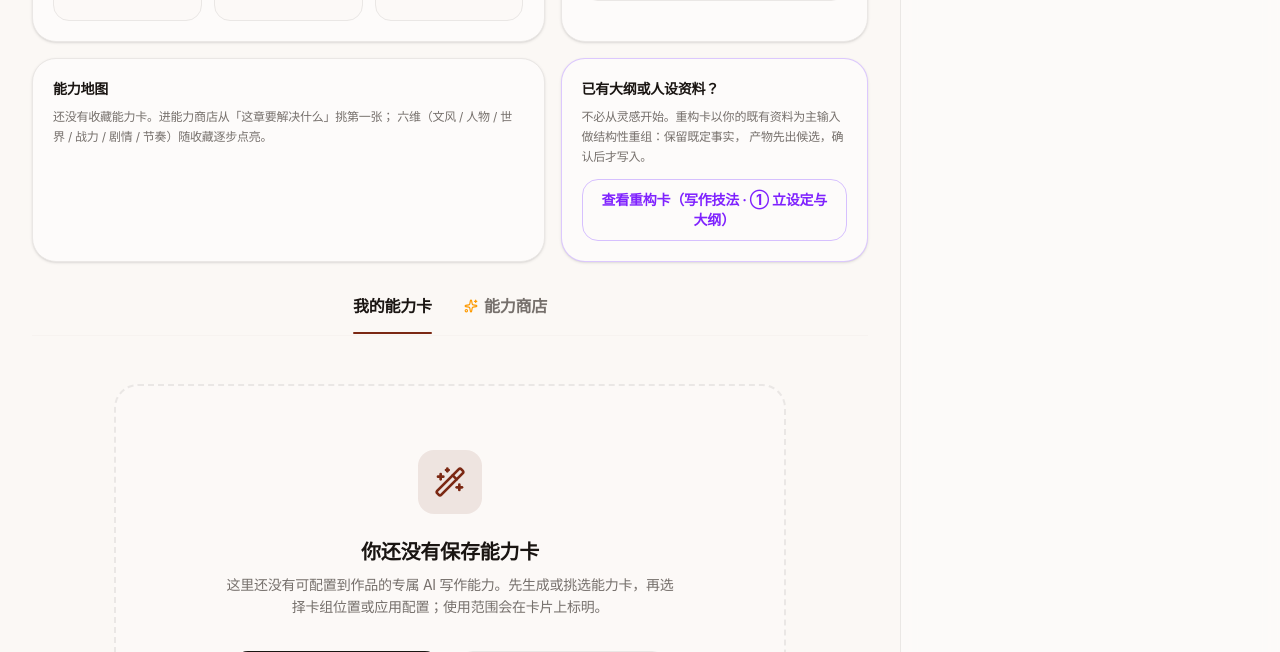
it: Plan 158 capability center › shows a single flow directory instead of duplicating flow packages
The image size is (1280, 652).
(page scrolled)
Step 1. Click the button "能力商店" → [505, 314], box [464,294,547,334]
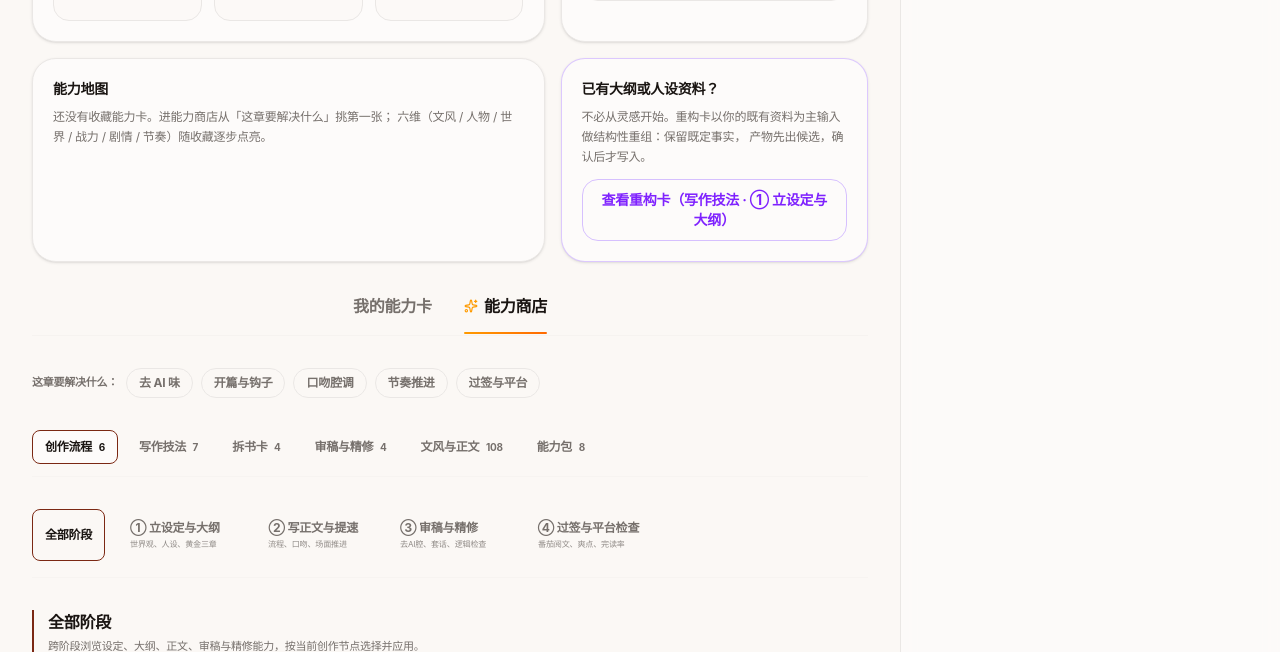
Step 2. Click the tab "能力包 8" → [561, 446], box [524,430,598,464]
(page scrolled)
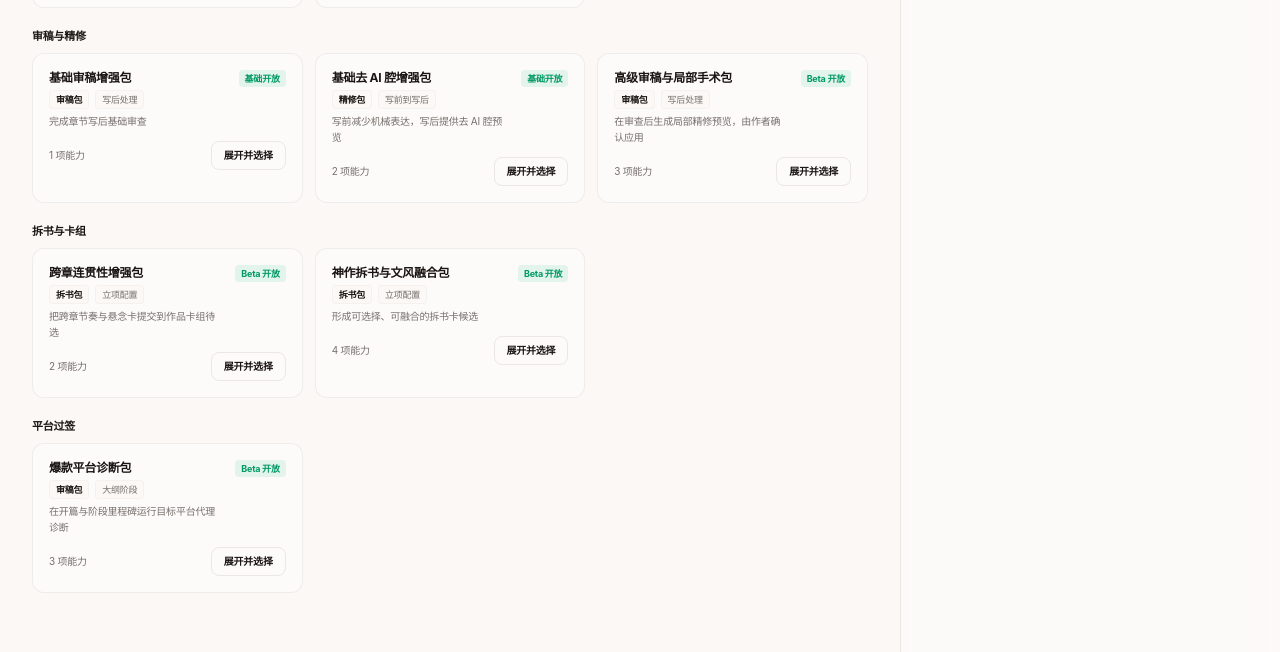
expect the text "Beta 开放" next to "高级审稿与局部手术包" is shown: met, box [807,72,845,84]
expect the text "审稿包" below "基础审稿增强包" is shown: met, box [56,94,82,104]
expect the text "写后处理" below "基础审稿增强包" is shown: met, box [102,94,137,104]
